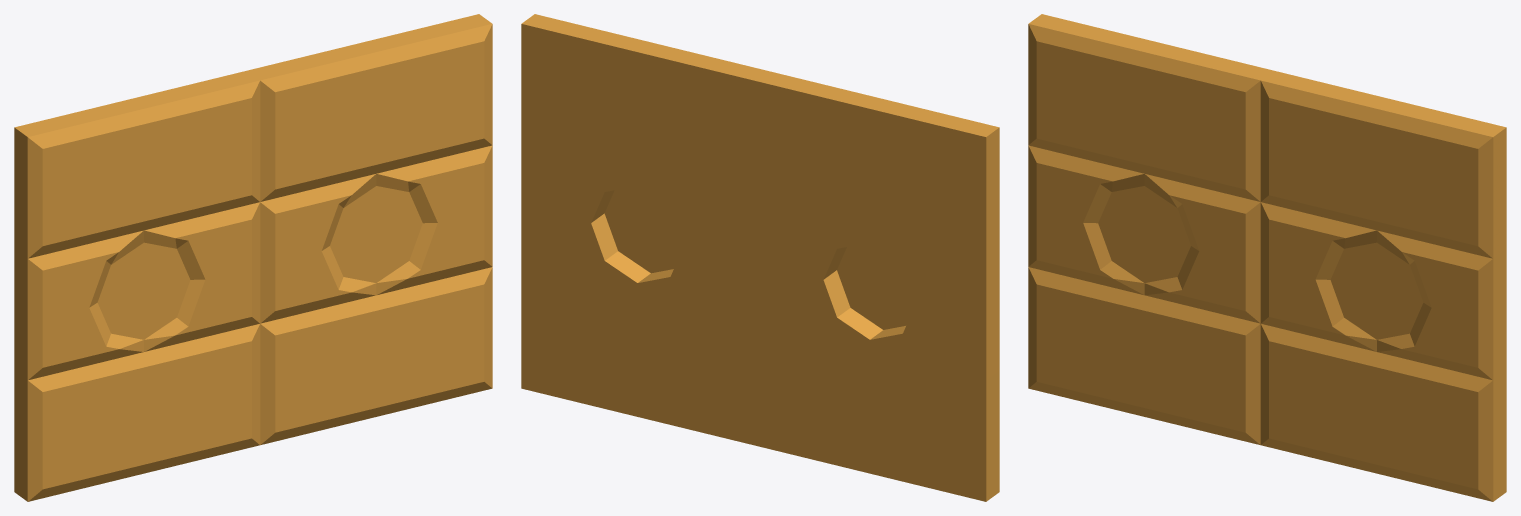
The model's file is scifi-wall-windows-stripe.fbx.
3 renders of one model, left to right at view 1: azimuth 30°, elevation 25°; view 2: azimuth 150°, elevation 25°; view 3: azimuth 330°, elevation 25°, orthographic.
Visible parts, largest first — view 1: scifi-wall-windows-stripe; view 2: scifi-wall-windows-stripe; view 3: scifi-wall-windows-stripe.
Part boxes in pixels (bbox=[...]): scifi-wall-windows-stripe: bbox=[14, 14, 492, 501]; scifi-wall-windows-stripe: bbox=[521, 14, 999, 501]; scifi-wall-windows-stripe: bbox=[1028, 14, 1506, 501].
Size of the model in its own units: 4 by 3 by 0.25.
